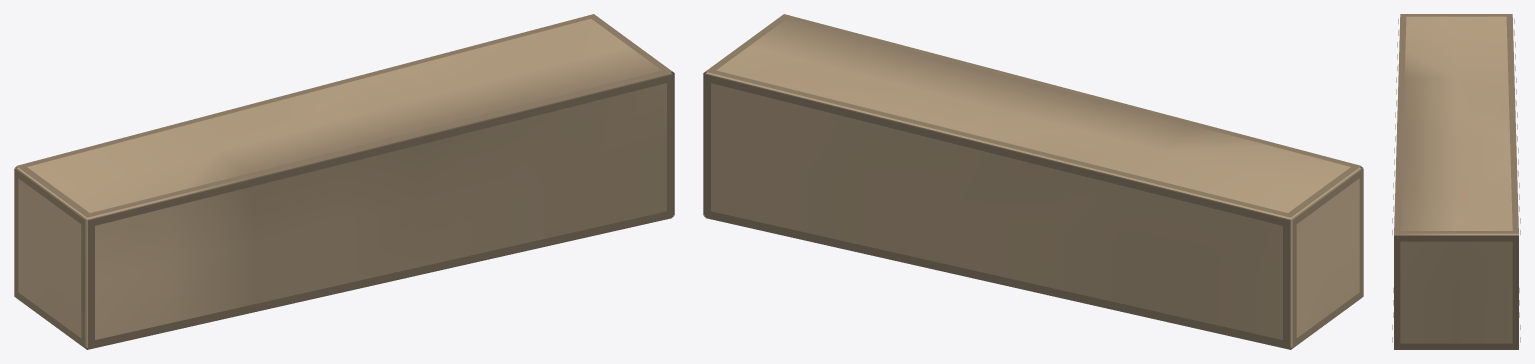
Rendered from key-zn.glb.
3 views of the same model, side by side, from view 1: azimuth 30°, elevation 25°; view 2: azimuth 150°, elevation 25°; view 3: azimuth 270°, elevation 25° (orthographic). The views are drawn at different scales.
Visible parts, largest first — view 1: key-zn; view 2: key-zn; view 3: key-zn.
Part boxes in pixels (box(x1,y1,x2,y2)): key-zn: box(14, 14, 674, 349); key-zn: box(703, 14, 1363, 349); key-zn: box(1392, 14, 1520, 349).
Bounding box in the file's own units: 0.1288 × 0.0308 × 0.0308.
